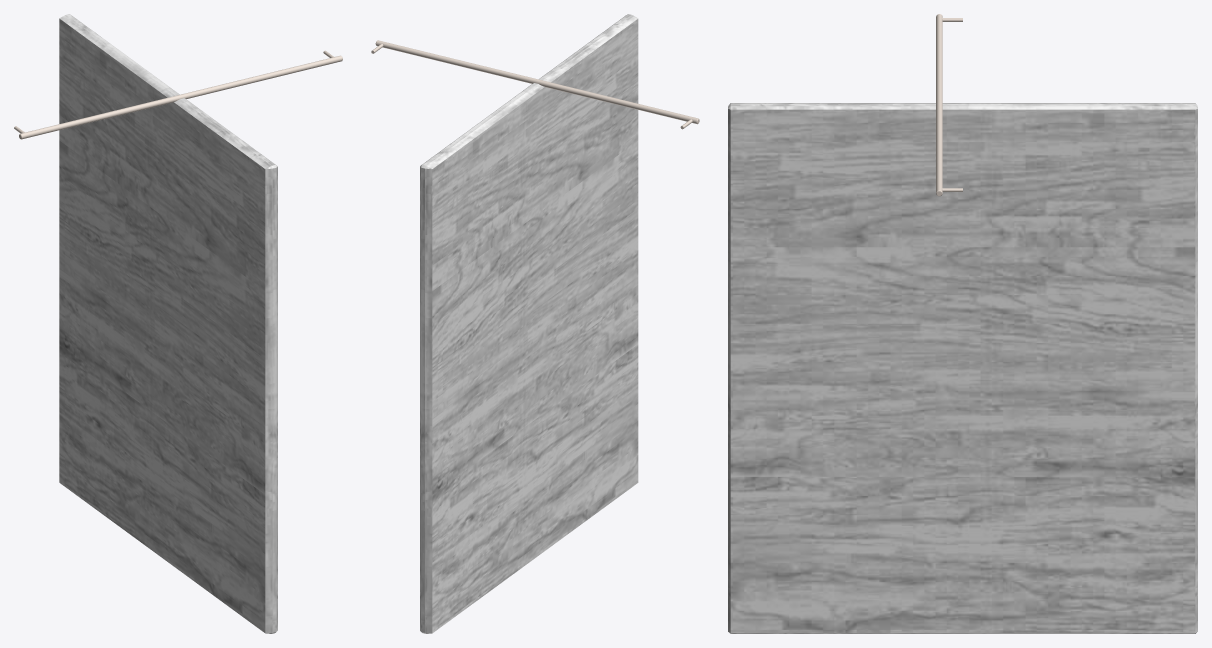
Rendered from Cabinet_1f78f1e8.obj.
The picture shows the model from 3 angles, left to right: view 1: azimuth 30°, elevation 25°; view 2: azimuth 150°, elevation 25°; view 3: azimuth 270°, elevation 25°; orthographic projection. The views are drawn at different scales.
Visible parts, largest first — view 1: Mesh_ba78d282, handle_1_600mm_01_d36ce87f; view 2: Mesh_ba78d282, handle_1_600mm_01_d36ce87f; view 3: Mesh_ba78d282, handle_1_600mm_01_d36ce87f.
Boxes of the visible parts, x1,y1,x2,y2 form: Mesh_ba78d282: [59, 14, 277, 633]; handle_1_600mm_01_d36ce87f: [14, 50, 342, 139]; Mesh_ba78d282: [420, 14, 638, 633]; handle_1_600mm_01_d36ce87f: [371, 40, 699, 129]; Mesh_ba78d282: [728, 103, 1197, 633]; handle_1_600mm_01_d36ce87f: [936, 14, 962, 196].
Size of the model in its own units: 0.6 by 0.8394 by 0.6734.
